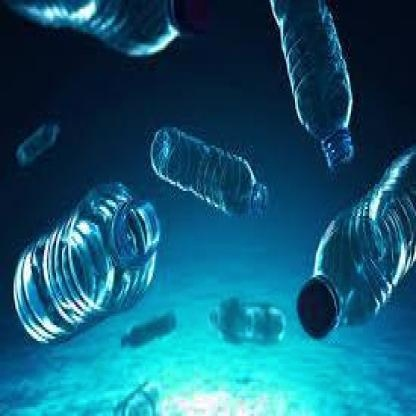pbottle: (9, 175, 168, 355), (296, 136, 416, 343), (250, 2, 367, 173), (136, 114, 271, 232), (1, 2, 220, 66), (207, 289, 289, 359), (8, 114, 74, 166), (120, 307, 178, 359)
